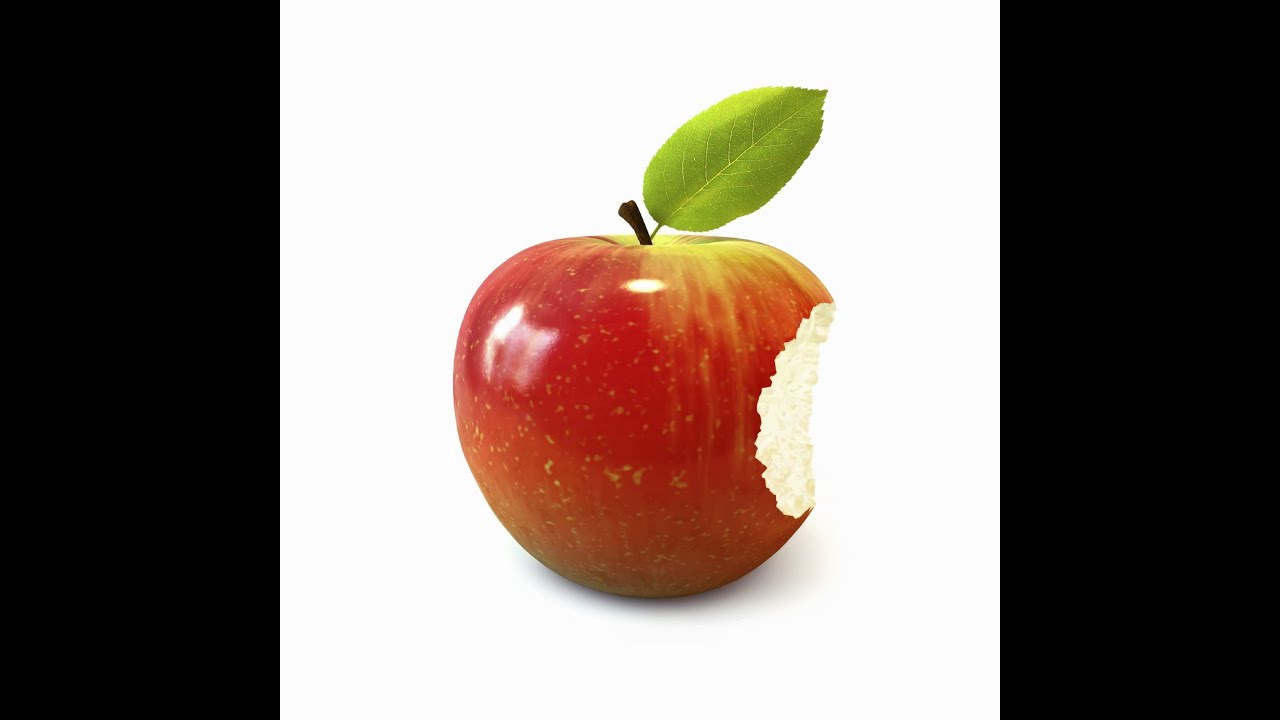apple: (450, 223, 853, 606)
